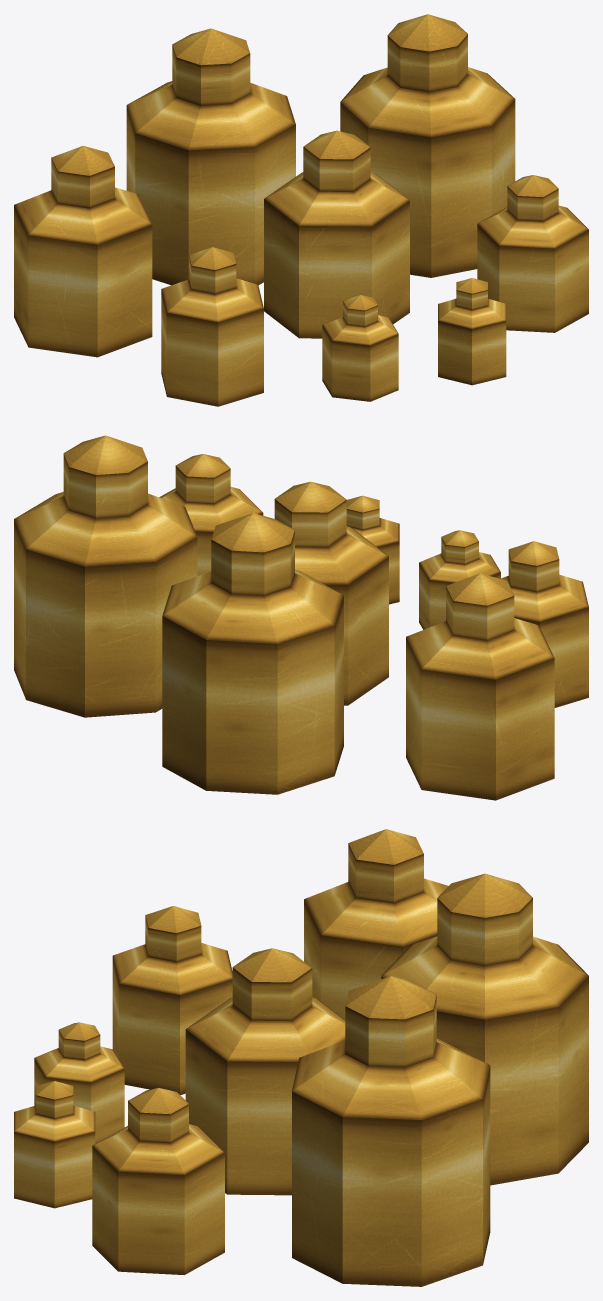
File: FMS_Stall_Weights.fbx
The picture shows the model from 3 angles, top to bottom: view 1: azimuth 30°, elevation 25°; view 2: azimuth 150°, elevation 25°; view 3: azimuth 270°, elevation 25°; orthographic projection. The views are drawn at different scales.
Visible parts, largest first — view 1: item_stalls_weights; view 2: item_stalls_weights; view 3: item_stalls_weights.
Boxes of the visible parts, box(x1,y1,x2,y2) form: item_stalls_weights: box(14, 14, 588, 406); item_stalls_weights: box(14, 435, 588, 800); item_stalls_weights: box(14, 829, 588, 1286).
Size of the model in its own units: 0.1332 by 0.06 by 0.1162.
1 material, 1 textured.
